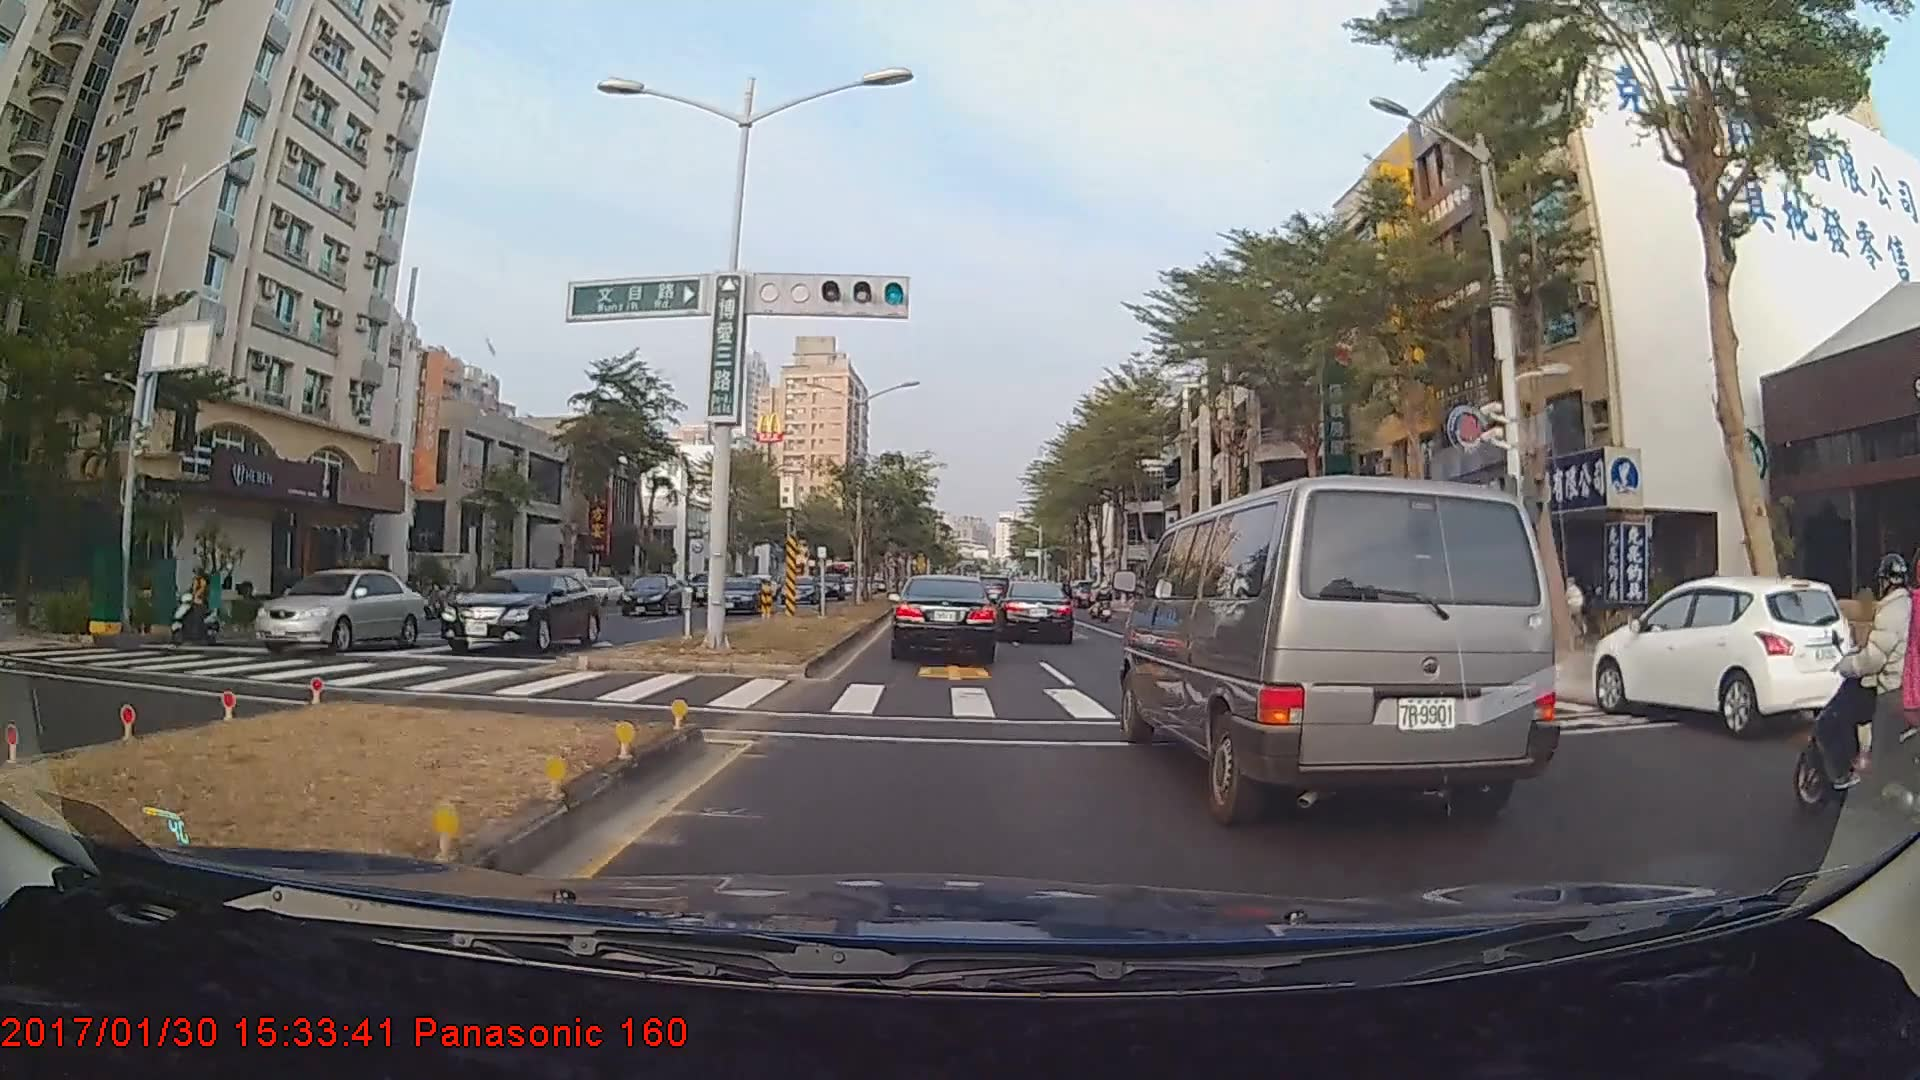rider: (1791, 555, 1920, 818), (165, 568, 227, 647)
vehicle: (1126, 465, 1563, 820), (1593, 574, 1853, 732), (252, 567, 425, 655), (437, 565, 602, 651), (891, 573, 998, 663), (999, 579, 1074, 644), (618, 572, 683, 616), (710, 574, 764, 611), (778, 573, 818, 603)
